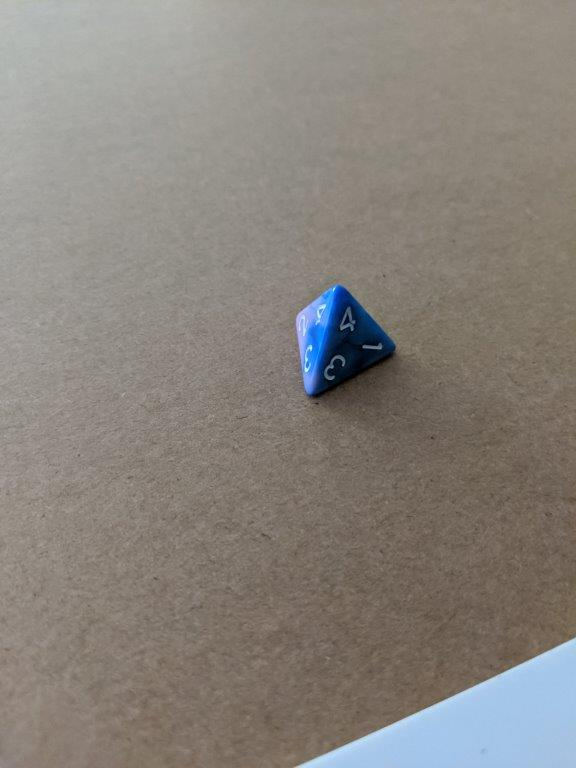d4-4: (292, 280, 400, 403)
